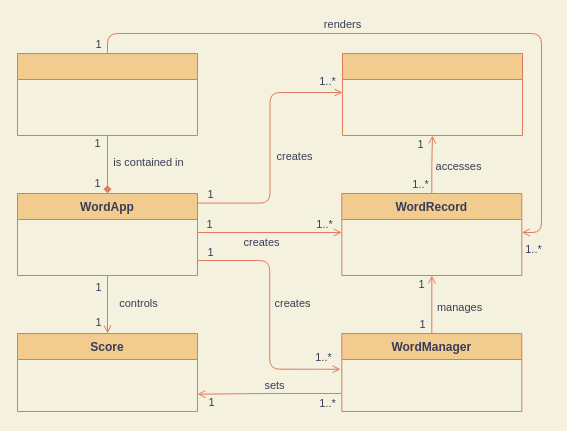
Some shapes in this 567 by 431 pixel diagram are drawn without their labels. Here are the shapes that lost their labels. From the top down, the box of each, then its label:
(16, 52, 198, 136): WordPanel
(342, 52, 522, 136): WordDictionary
